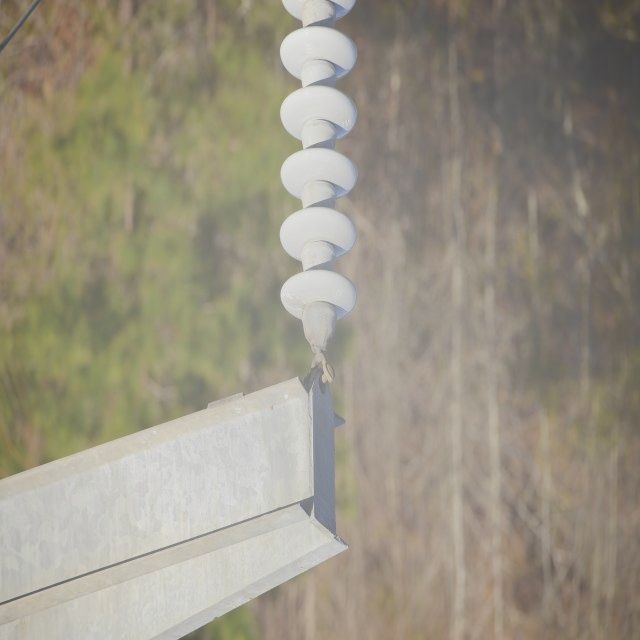insulator: (277, 0, 357, 322)
